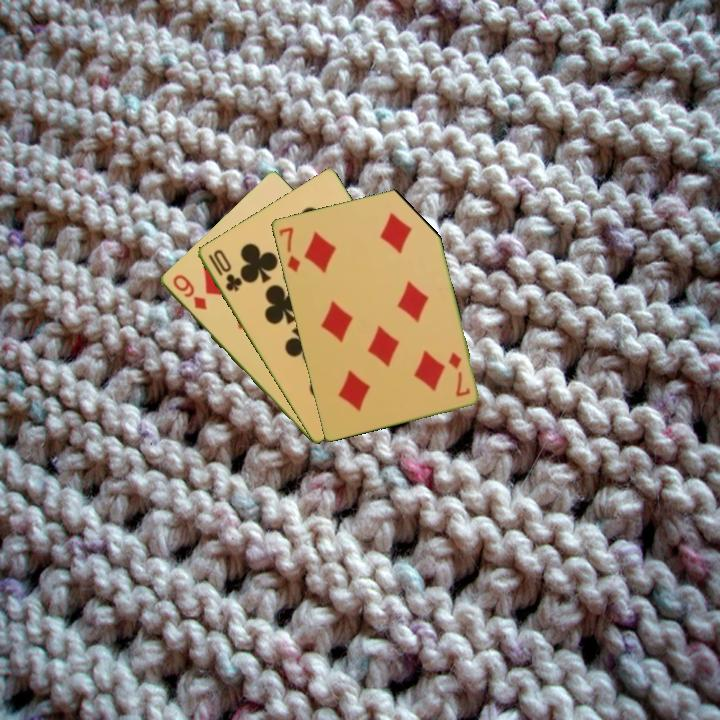10c: (204, 246, 244, 294)
7d: (444, 348, 473, 399), (275, 223, 303, 275)
9d: (169, 271, 210, 313)
